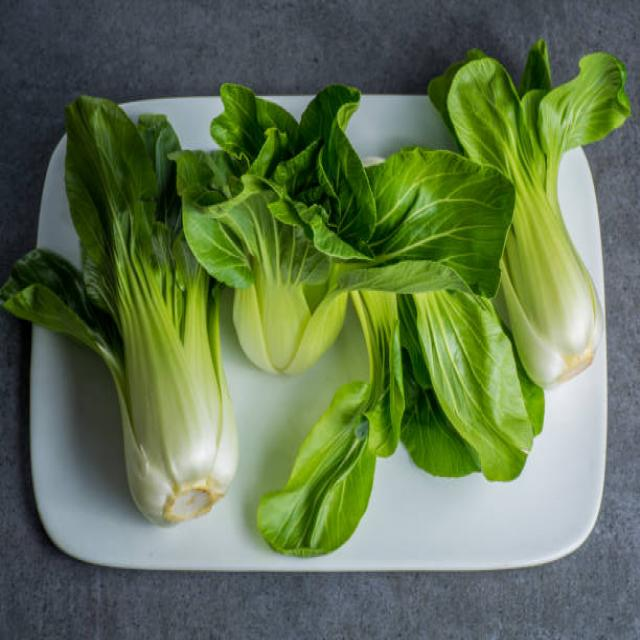bok choy: (74, 167, 237, 520), (506, 76, 618, 358)
